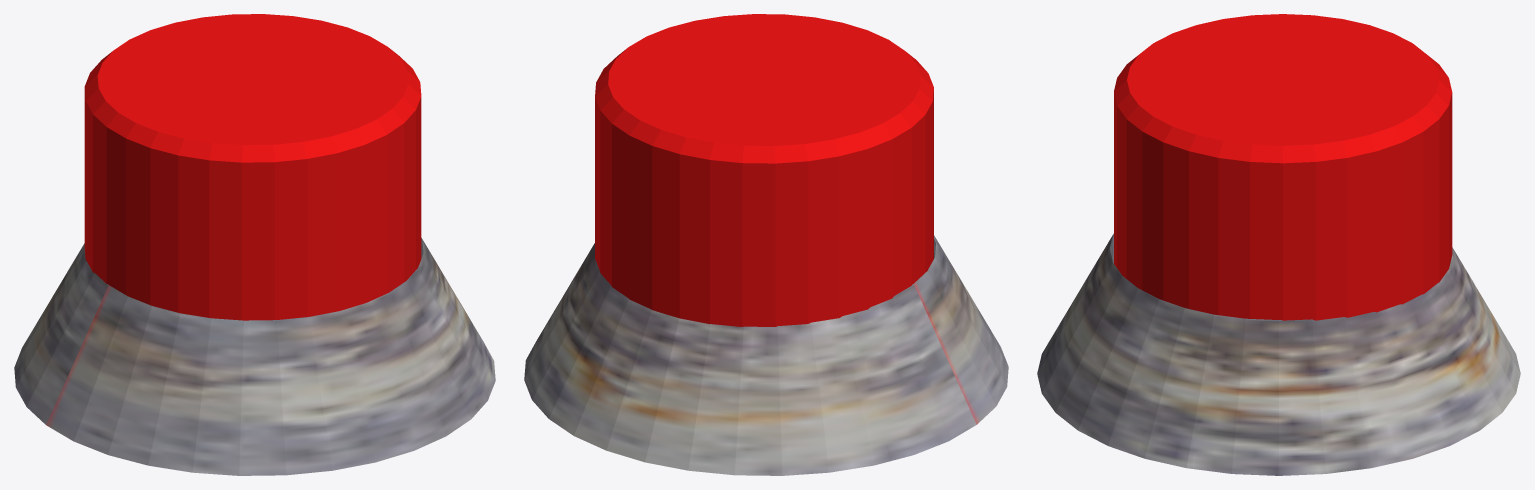
File: Gamebutton1.fbx
3 renders of one model, left to right at view 1: azimuth 30°, elevation 25°; view 2: azimuth 150°, elevation 25°; view 3: azimuth 270°, elevation 25°, orthographic.
Parts seen in each view (by area): view 1: Cylinder, Torus; view 2: Cylinder, Torus; view 3: Cylinder, Torus.
Part boxes in pixels (bbox=[...]): Cylinder: bbox=[84, 14, 421, 320]; Torus: bbox=[14, 238, 495, 475]; Cylinder: bbox=[595, 14, 933, 326]; Torus: bbox=[524, 235, 1008, 475]; Cylinder: bbox=[1114, 14, 1452, 320]; Torus: bbox=[1037, 233, 1520, 475].
Size of the model in its own units: 286 by 200 by 286.
2 materials, 2 textured.
